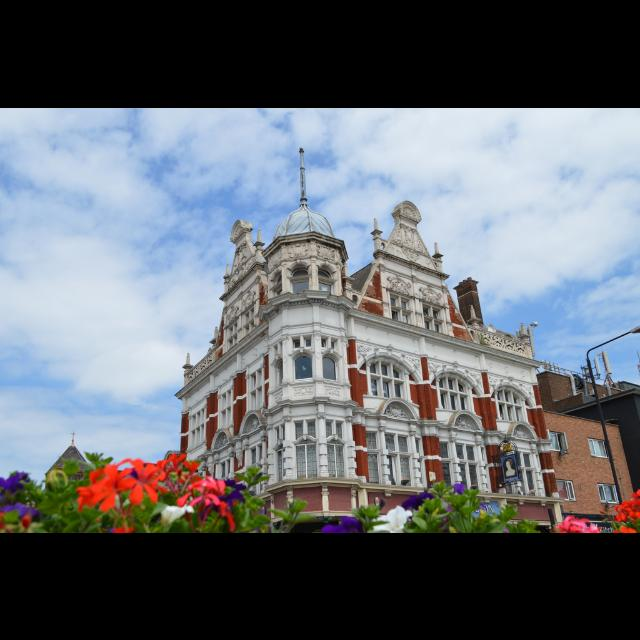Flower: (72, 448, 248, 532), (1, 466, 40, 532), (187, 478, 231, 524), (613, 488, 639, 532), (552, 512, 604, 532), (379, 506, 416, 532), (320, 516, 366, 532), (402, 489, 434, 511), (452, 483, 464, 493)
